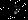person: (16, 3, 27, 19)
